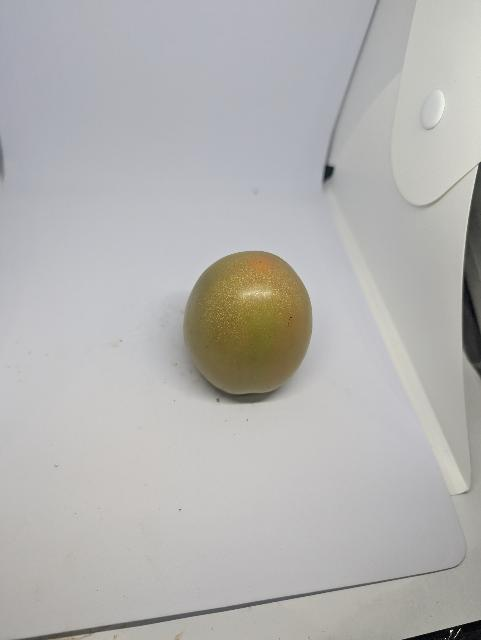breaker: (184, 251, 313, 394)
